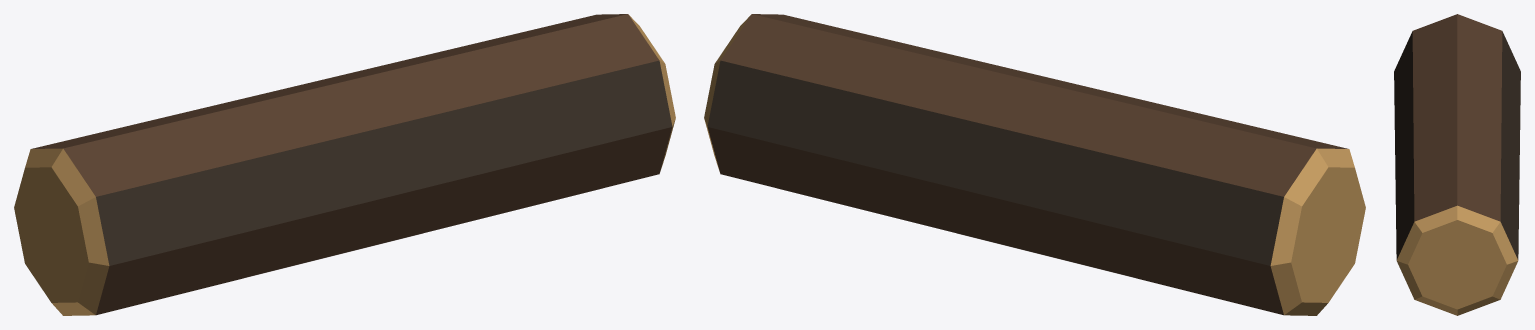
File: CutLog.glb
3 views of the same model, side by side, from view 1: azimuth 30°, elevation 25°; view 2: azimuth 150°, elevation 25°; view 3: azimuth 270°, elevation 25° (orthographic). The views are drawn at different scales.
Visible parts, largest first — view 1: CutLog_Mesh; view 2: CutLog_Mesh; view 3: CutLog_Mesh.
Part boxes in pixels (x1,y1,x2,y2): CutLog_Mesh: (14, 14, 675, 315); CutLog_Mesh: (704, 14, 1365, 315); CutLog_Mesh: (1394, 14, 1520, 315).
Bounding box in the file's own units: 1.25 × 0.34 × 0.34.
